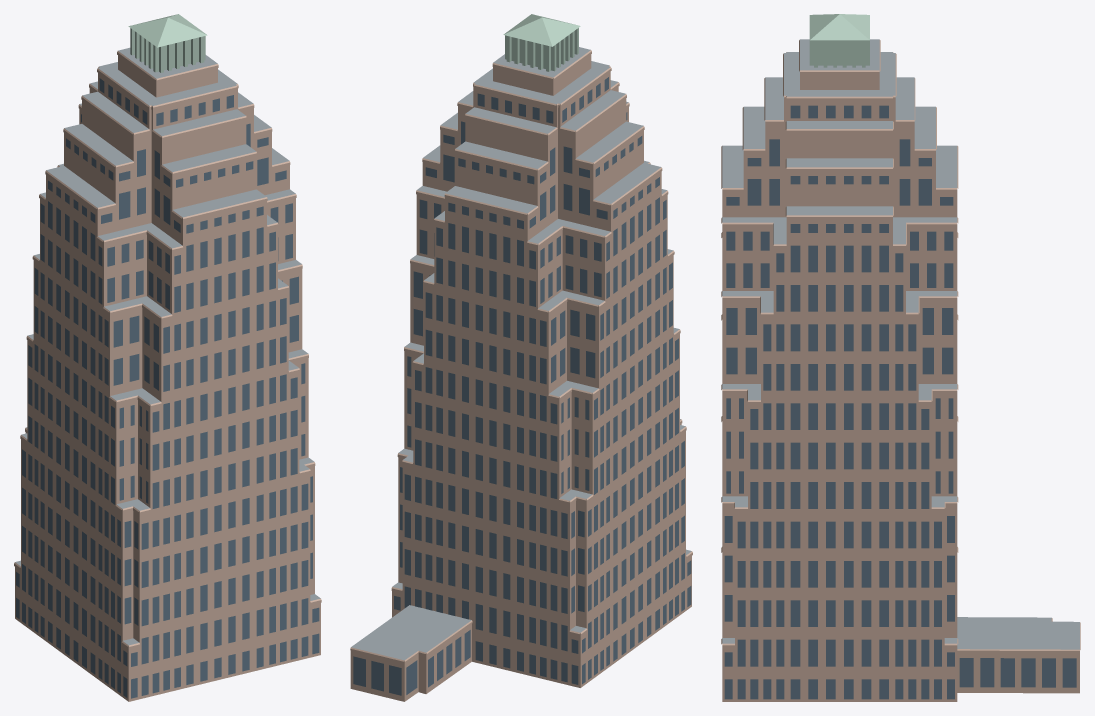
Rendered from ral-two-hannover-square.glb.
The picture shows the model from 3 angles, left to right: view 1: azimuth 30°, elevation 25°; view 2: azimuth 150°, elevation 25°; view 3: azimuth 270°, elevation 25°; orthographic projection. The views are drawn at different scales.
Parts seen in each view (by area): view 1: Two Hannover Square; view 2: Two Hannover Square; view 3: Two Hannover Square.
Part boxes in pixels (left/top/right/bottom): Two Hannover Square: left=14, top=14, right=321, bottom=701; Two Hannover Square: left=350, top=14, right=692, bottom=701; Two Hannover Square: left=721, top=14, right=1080, bottom=701.
Size of the model in its own units: 43.06 by 131 by 66.93.
